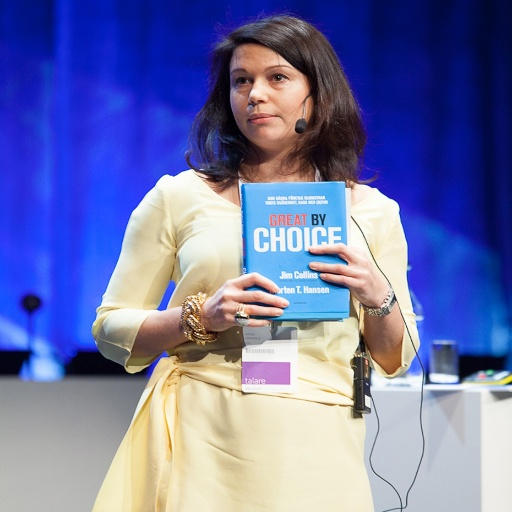hand: (163, 270, 295, 340), (307, 241, 385, 307)
